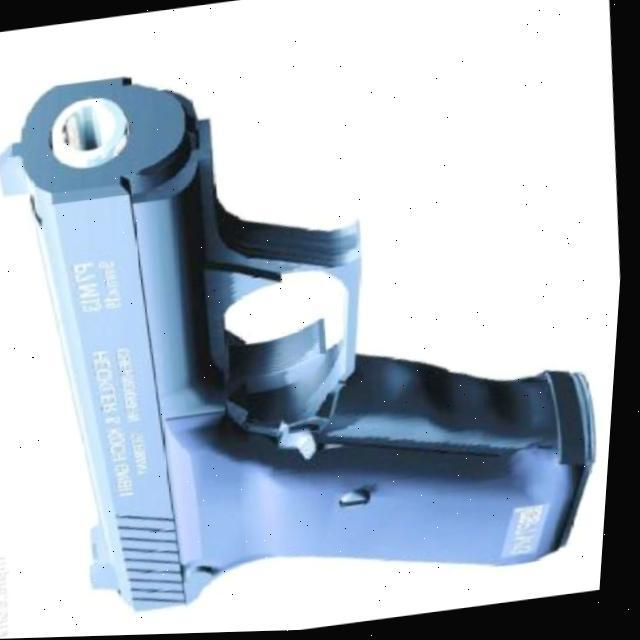gun: (0, 6, 635, 631)
